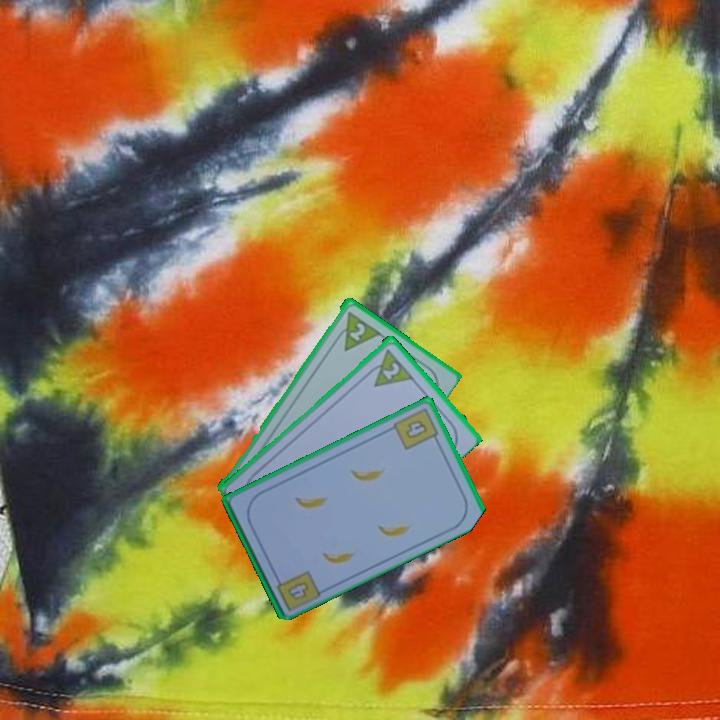2p: (330, 307, 382, 353), (362, 344, 415, 389)
4b: (390, 404, 442, 453), (284, 577, 312, 603)
